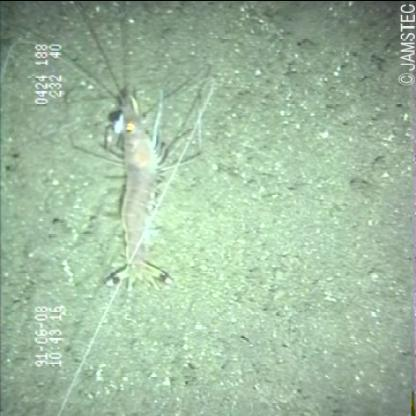Bio: (10, 36, 228, 300)
